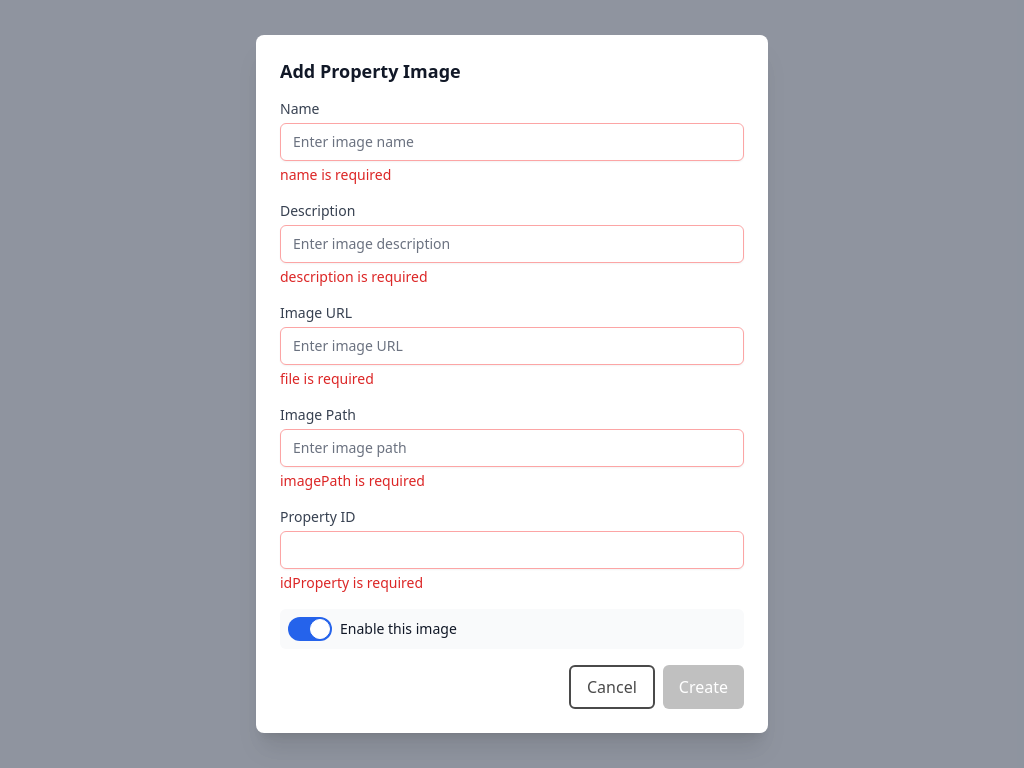
ActionModal › validates image URL format
Type "invalid-url" into the field labelled "Image URL".
click(512, 346); type("invalid-url")  # box [280, 327, 744, 365]
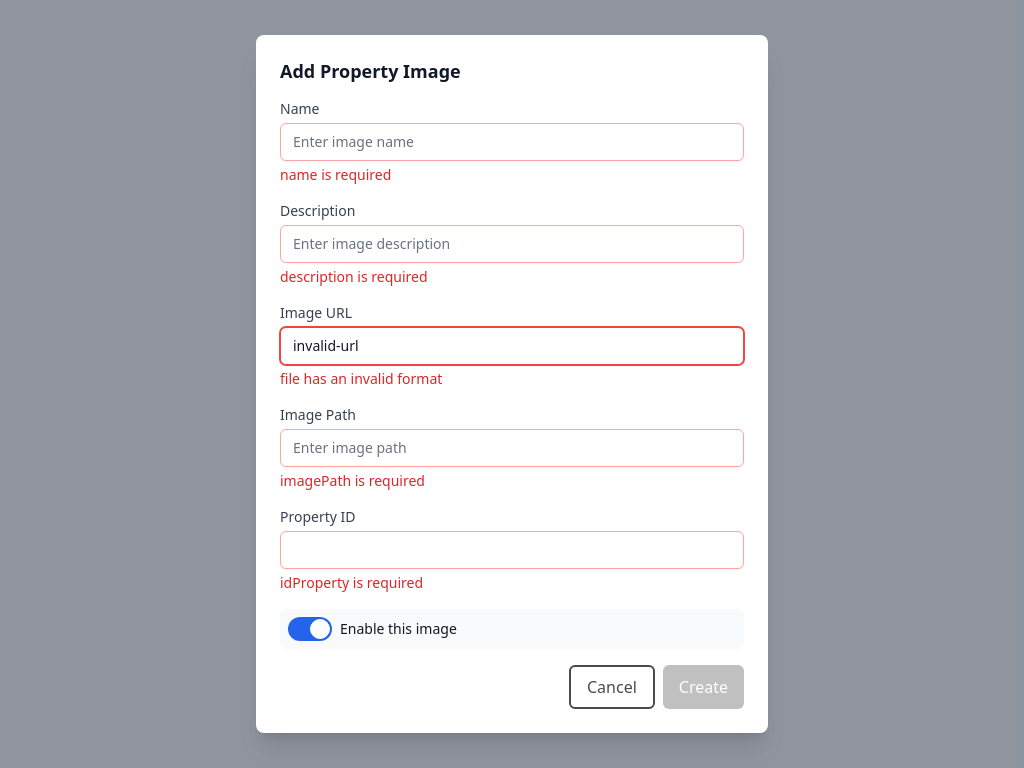
Now the text "file has an invalid format" is shown, box [280, 369, 442, 388]
